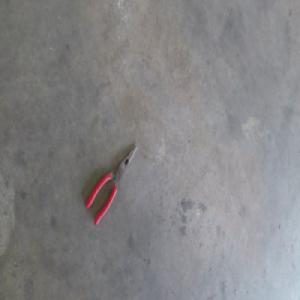Pliers: (86, 143, 138, 223)
